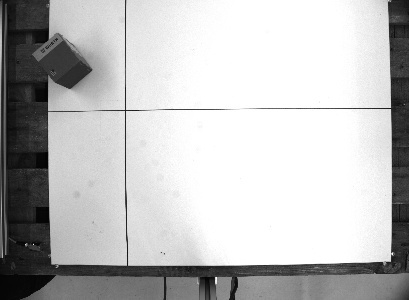b7: (30, 29, 94, 89)
